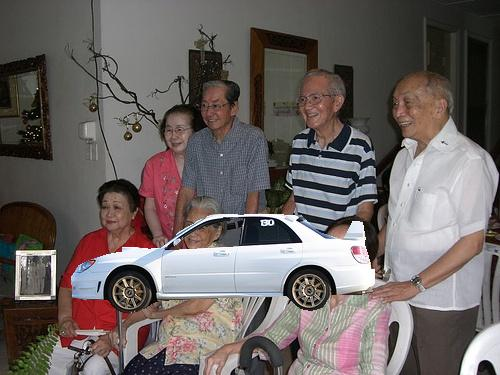tampered: (72, 215, 375, 313)
